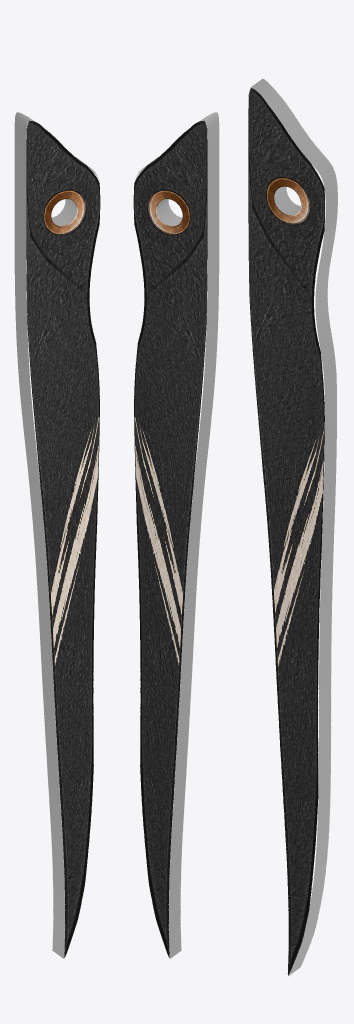
File: LowerLeg.glb
3 renders of one model, left to right at view 1: azimuth 30°, elevation 25°; view 2: azimuth 150°, elevation 25°; view 3: azimuth 330°, elevation 25°, orthographic. The views are drawn at different scales.
Visible parts, largest first — view 1: PaperVolume; view 2: PaperVolume; view 3: PaperVolume.
Boxes of the visible parts, x1,y1,x2,y2 form: PaperVolume: [14, 112, 100, 958]; PaperVolume: [133, 112, 219, 958]; PaperVolume: [248, 78, 337, 976].
Bounding box in the file's own units: 0.3 × 3.63 × 0.08.
3 materials, 2 textured.
